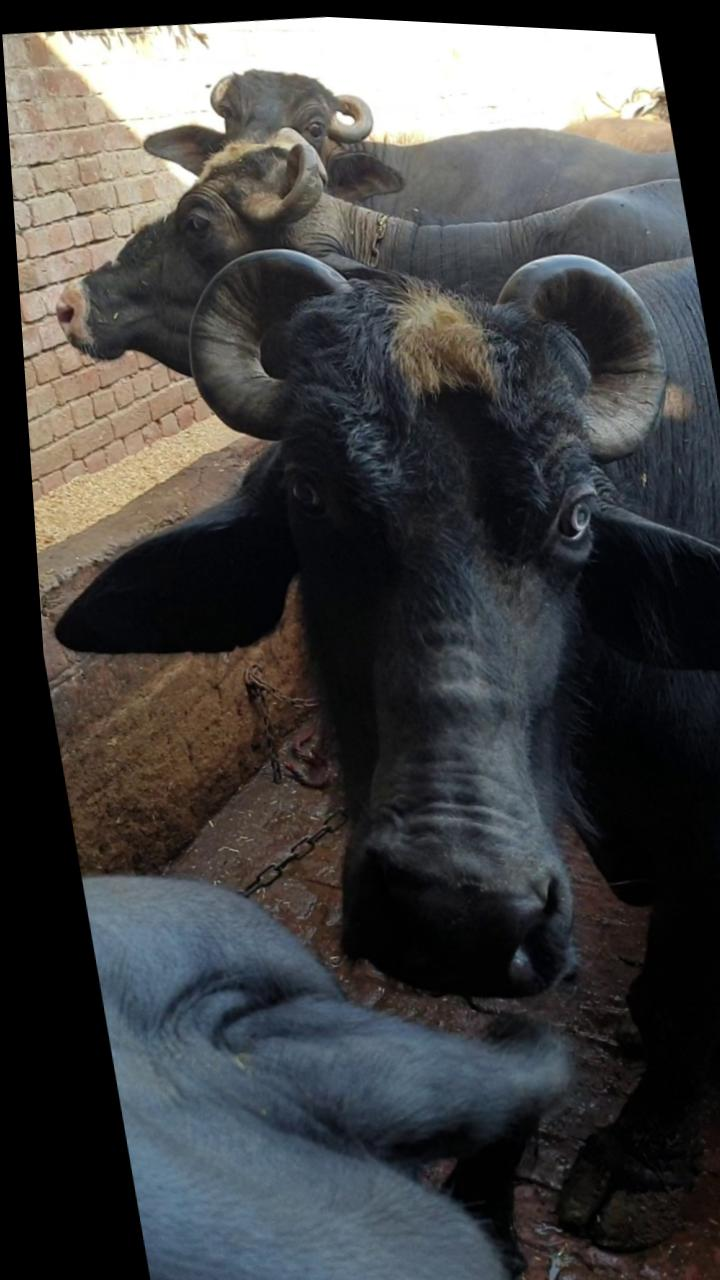cows: (198, 228, 675, 1020), (52, 150, 262, 362), (219, 37, 343, 171)
